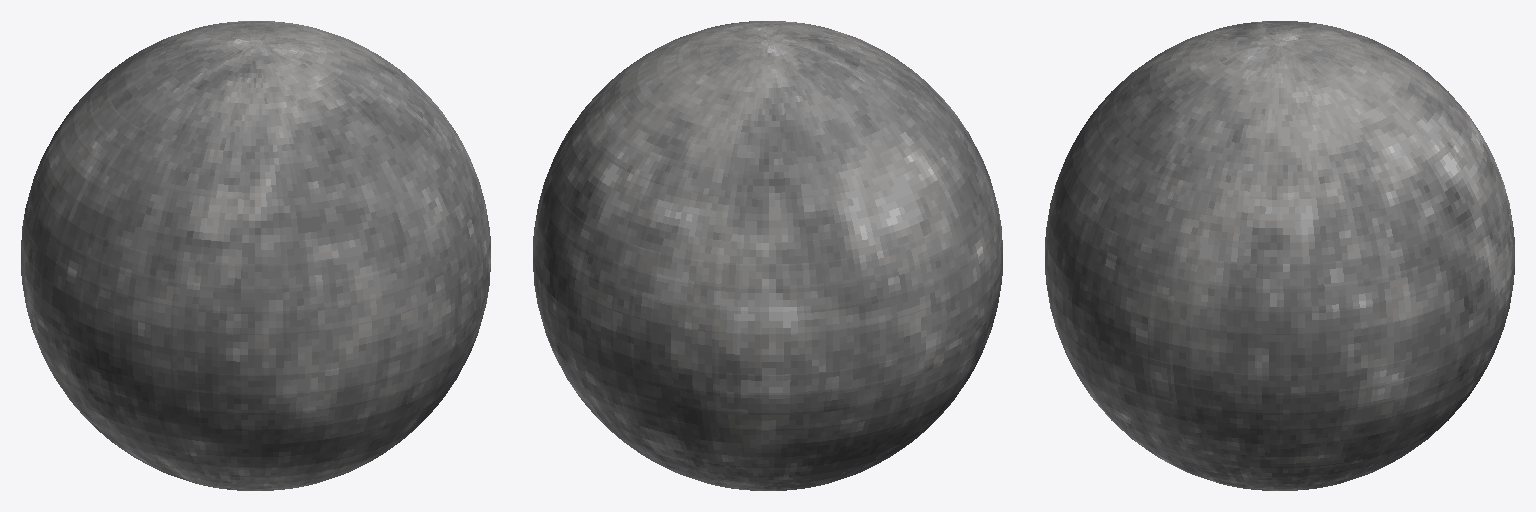
The picture shows the model from 3 angles: view 1: azimuth 30°, elevation 25°; view 2: azimuth 150°, elevation 25°; view 3: azimuth 270°, elevation 25°; orthographic projection.
Parts seen in each view (by area): view 1: Sphere; view 2: Sphere; view 3: Sphere.
Boxes of the visible parts, box(x1,y1,x2,y2) form: Sphere: box(21, 21, 490, 490); Sphere: box(533, 21, 1002, 490); Sphere: box(1045, 21, 1514, 490).
Bounding box in the file's own units: 2 × 2 × 2.
Materials: 1 (1 with a texture image).